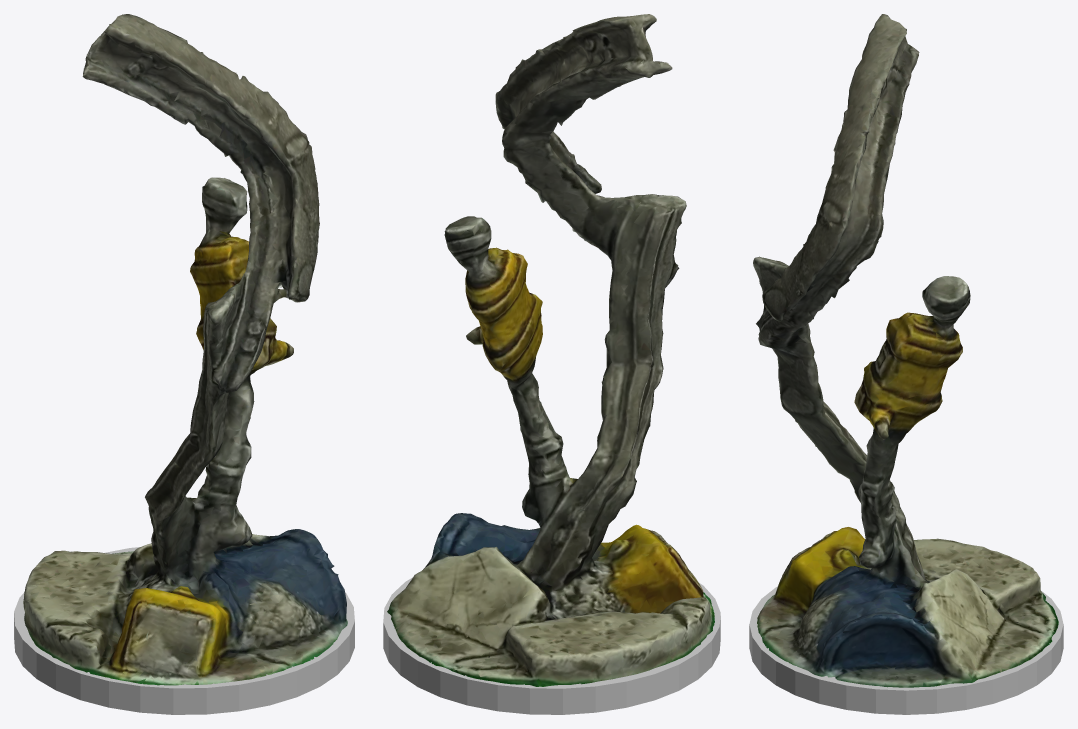
The model's file is construct-2.glb.
The picture shows the model from 3 angles, left to right: view 1: azimuth 30°, elevation 25°; view 2: azimuth 150°, elevation 25°; view 3: azimuth 270°, elevation 25°; orthographic projection. The views are drawn at different scales.
Visible parts, largest first — view 1: Construct 2, default; view 2: Construct 2, default; view 3: Construct 2, default.
Boxes of the visible parts, <box> form: Construct 2: <box>23,14,347,685</box>; default: <box>14,547,354,714</box>; Construct 2: <box>387,14,714,686</box>; default: <box>383,577,720,714</box>; Construct 2: <box>753,14,1058,687</box>; default: <box>749,586,1063,714</box>.
Size of the model in its own units: 1.38 by 2.88 by 1.38.
2 materials, 1 textured.
